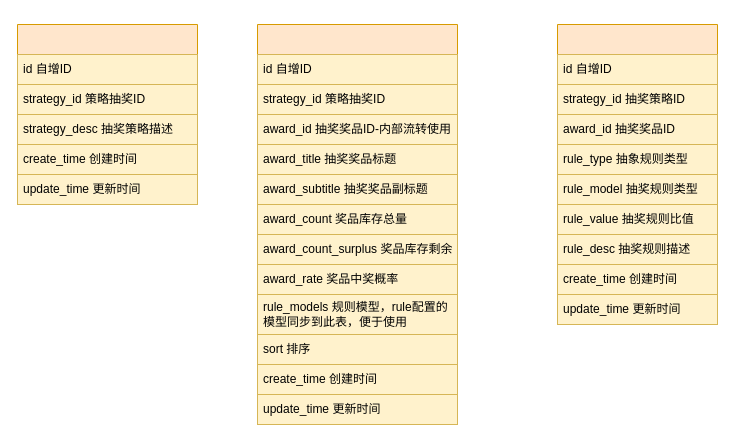
The diagram is 735 pixels wide and 442 high, and some of its shapes have lost their labels. Here are the shapes that lost their labels. From the top down, the box of each, then its label:
(16, 24, 198, 204): stratagy 策略总表
(556, 24, 718, 324): strategy_rule 策略规则
(256, 24, 458, 424): stratagy_award 策略奖品
